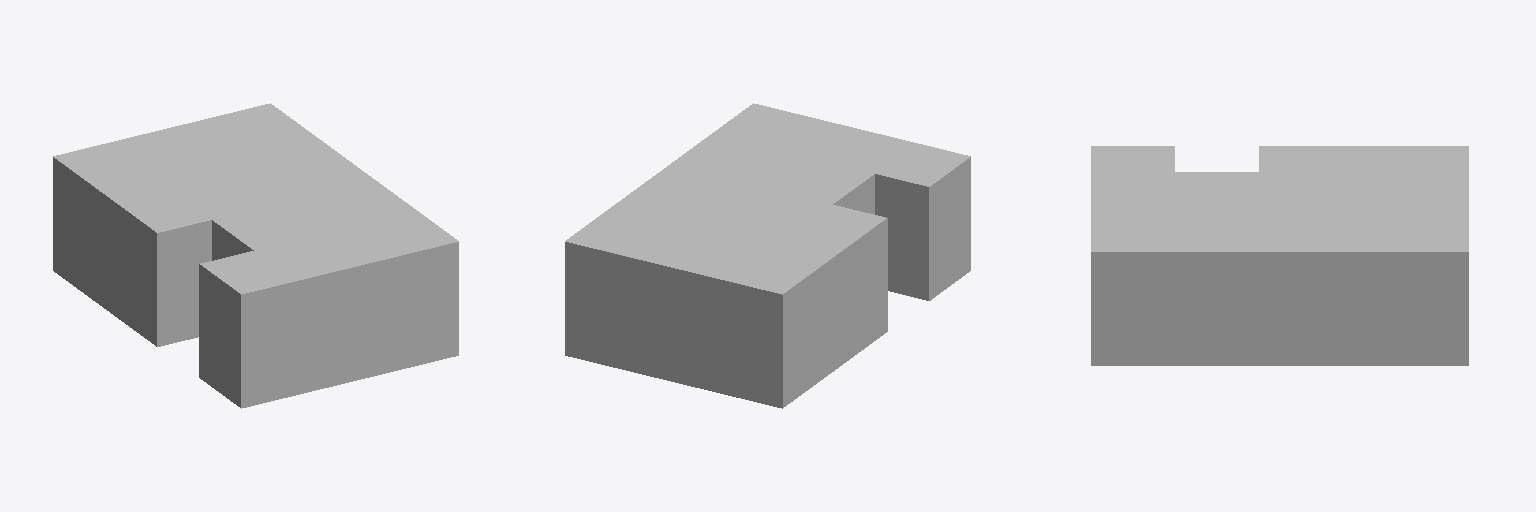
The model's file is powerPlant.obj.
3 renders of one model, left to right at view 1: azimuth 30°, elevation 25°; view 2: azimuth 150°, elevation 25°; view 3: azimuth 270°, elevation 25°, orthographic.
Parts seen in each view (by area): view 1: Cube; view 2: Cube; view 3: Cube.
Boxes of the visible parts, box(x1,y1,x2,y2) form: Cube: box(53, 103, 458, 408); Cube: box(565, 103, 970, 408); Cube: box(1091, 146, 1468, 365).
Bounding box in the file's own units: 4 × 2 × 6.